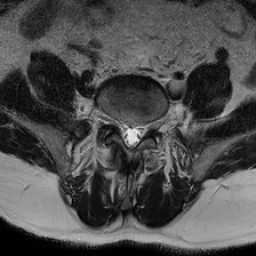CCS_normal: (128, 120, 133, 153)
LFS_normal: (142, 115, 152, 141)
LLS_normal: (134, 117, 142, 146)
RFS_normal: (110, 110, 120, 133)
RLS_normal: (120, 117, 128, 145)
